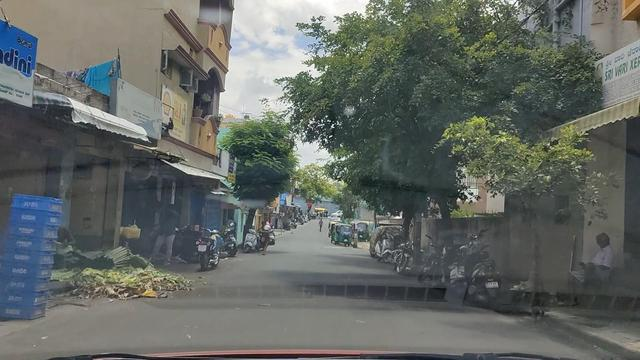LMV: (198, 225, 221, 265), (333, 223, 350, 247)
